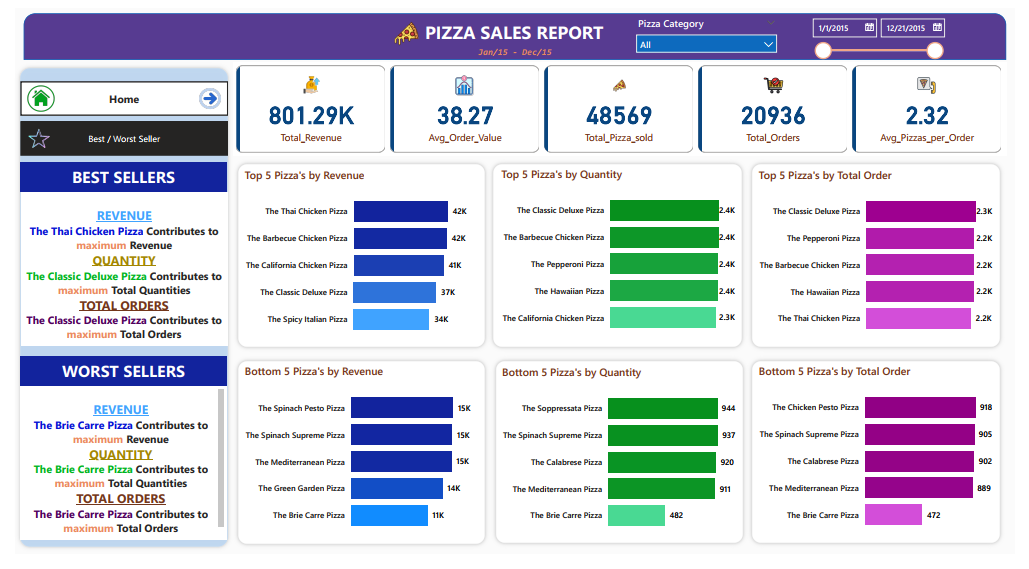

Layout of this report page (visuals, bound fields, positions):
{"tool":"powerbi","page":{"name":"Best / Worst Seller","canvas":[1500,820],"ordinal":1},"visuals":[{"type":"shape","box":[0,81.7,326.7,736.7],"z":0},{"type":"cardVisual","fields":{"Data":["Measure.Total_Revenue","Measure.Avg_Order_Value","Measure.Total_Pizza_sold","Measure.Total_Orders","Measure.Avg_Pizzas_per_Order"]},"box":[326.7,81.7,1160,140],"z":1000},{"type":"shape","box":[13.3,8.3,1473.3,70],"z":2000},{"type":"textbox","box":[600,11.7,298.3,50],"z":3000},{"type":"textbox","box":[680,51.7,140,33.3],"z":4000},{"type":"image","box":[553.3,1.7,70,73.3],"z":5000},{"type":"shape","box":[713.3,521.7,386.7,290],"z":6000},{"type":"shape","box":[1098.3,521.7,386.7,290],"z":7000},{"type":"shape","box":[326.7,523.3,386.7,290],"z":8000},{"type":"textbox","box":[8,568,310,230],"z":9000},{"type":"textbox","box":[8,524,310,44],"z":10000},{"type":"textbox","box":[8.3,231.7,310,45],"z":11000},{"type":"textbox","box":[8.6,277.1,310,230],"z":12000},{"type":"slicer","fields":{"Values":["pizzadb pizza_sales.pizza_category"]},"box":[921.7,8.3,231.7,66.7],"z":13000},{"type":"slicer","fields":{"Values":["pizzadb pizza_sales.order_date"]},"box":[1184.3,5.7,221.4,75.7],"z":14000},{"type":"shape","box":[710,226.7,388.3,290],"z":15000},{"type":"shape","box":[1098.3,226.7,386.7,290],"z":16000},{"type":"shape","box":[326.7,226.7,386.7,290],"z":17000},{"type":"barChart","title":"Top 5 Pizza''s by Revenue","fields":{"Y":["Measure.Total_Revenue"],"Category":["pizzadb pizza_sales.pizza_name"]},"box":[340,240,360,265],"z":18000},{"type":"barChart","title":"Bottom 5 Pizza''s by Revenue","fields":{"Y":["Measure.Total_Revenue"],"Category":["pizzadb pizza_sales.pizza_name"]},"box":[340,535,360,265],"z":19000},{"type":"barChart","title":"Top 5 Pizza''s by Quantity","fields":{"Category":["pizzadb pizza_sales.pizza_name"],"Y":["Measure.Total_Pizza_sold"]},"box":[725,238.3,360,265],"z":20000},{"type":"barChart","title":"Bottom 5 Pizza''s by Quantity","fields":{"Category":["pizzadb pizza_sales.pizza_name"],"Y":["Measure.Total_Pizza_sold"]},"box":[725.7,535.7,360,264.3],"z":21000},{"type":"barChart","title":"Top 5 Pizza''s by Total Order","fields":{"Category":["pizzadb pizza_sales.pizza_name"],"Y":["Measure.Total_Orders"]},"box":[1111.4,240,360,264.3],"z":22000},{"type":"barChart","title":"Bottom 5 Pizza''s by Total Order","fields":{"Category":["pizzadb pizza_sales.pizza_name"],"Y":["Measure.Total_Orders"]},"box":[1111.4,534.3,360,264.3],"z":23000},{"type":"pageNavigator","box":[8.6,111.4,310,50],"z":24000},{"type":"pageNavigator","box":[8.6,171.4,310,50],"z":25000},{"type":"image","box":[7.1,171.4,57.1,50],"z":28000},{"type":"image","box":[11.4,111.4,55.7,50],"z":28500},{"type":"image","box":[267.1,111.4,51.4,50],"z":29000}]}

Visuals, with their boxes in screenshot pixels (x1, y1, x2, y2), scaled from the page's 1500x820 canvas onto the 1029x569 screenshot:
shape: <bbox>0, 57, 224, 568</bbox>
cardVisual - Measure.Total_Revenue x Measure.Avg_Order_Value: <bbox>224, 57, 1020, 154</bbox>
shape: <bbox>9, 6, 1020, 54</bbox>
textbox: <bbox>412, 8, 616, 43</bbox>
textbox: <bbox>466, 36, 563, 59</bbox>
image: <bbox>380, 1, 428, 52</bbox>
shape: <bbox>489, 362, 755, 563</bbox>
shape: <bbox>753, 362, 1019, 563</bbox>
shape: <bbox>224, 363, 489, 564</bbox>
textbox: <bbox>5, 394, 218, 554</bbox>
textbox: <bbox>5, 364, 218, 394</bbox>
textbox: <bbox>6, 161, 218, 192</bbox>
textbox: <bbox>6, 192, 219, 352</bbox>
slicer - pizzadb pizza_sales.pizza_category: <bbox>632, 6, 791, 52</bbox>
slicer - pizzadb pizza_sales.order_date: <bbox>812, 4, 964, 56</bbox>
shape: <bbox>487, 157, 753, 359</bbox>
shape: <bbox>753, 157, 1019, 359</bbox>
shape: <bbox>224, 157, 489, 359</bbox>
"Top 5 Pizza''s by Revenue" barChart: <bbox>233, 167, 480, 350</bbox>
"Bottom 5 Pizza''s by Revenue" barChart: <bbox>233, 371, 480, 555</bbox>
"Top 5 Pizza''s by Quantity" barChart: <bbox>497, 165, 744, 349</bbox>
"Bottom 5 Pizza''s by Quantity" barChart: <bbox>498, 372, 745, 555</bbox>
"Top 5 Pizza''s by Total Order" barChart: <bbox>762, 167, 1009, 350</bbox>
"Bottom 5 Pizza''s by Total Order" barChart: <bbox>762, 371, 1009, 554</bbox>
pageNavigator: <bbox>6, 77, 219, 112</bbox>
pageNavigator: <bbox>6, 119, 219, 154</bbox>
image: <bbox>5, 119, 44, 154</bbox>
image: <bbox>8, 77, 46, 112</bbox>
image: <bbox>183, 77, 218, 112</bbox>
